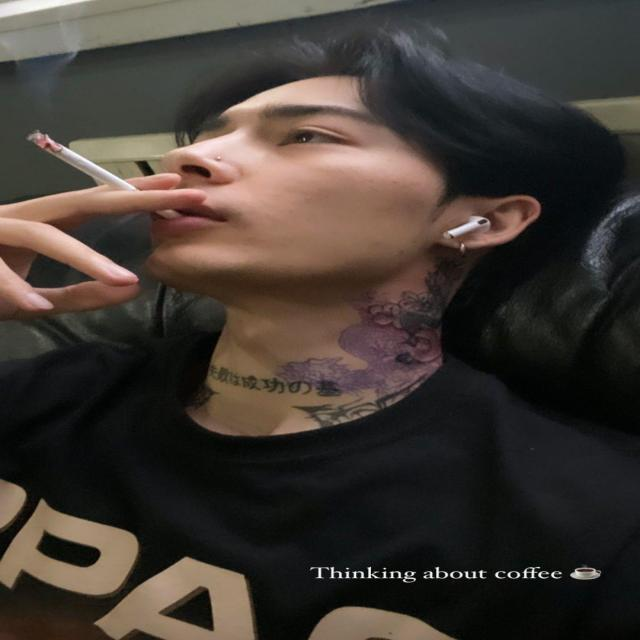cigarette: (11, 113, 202, 222)
